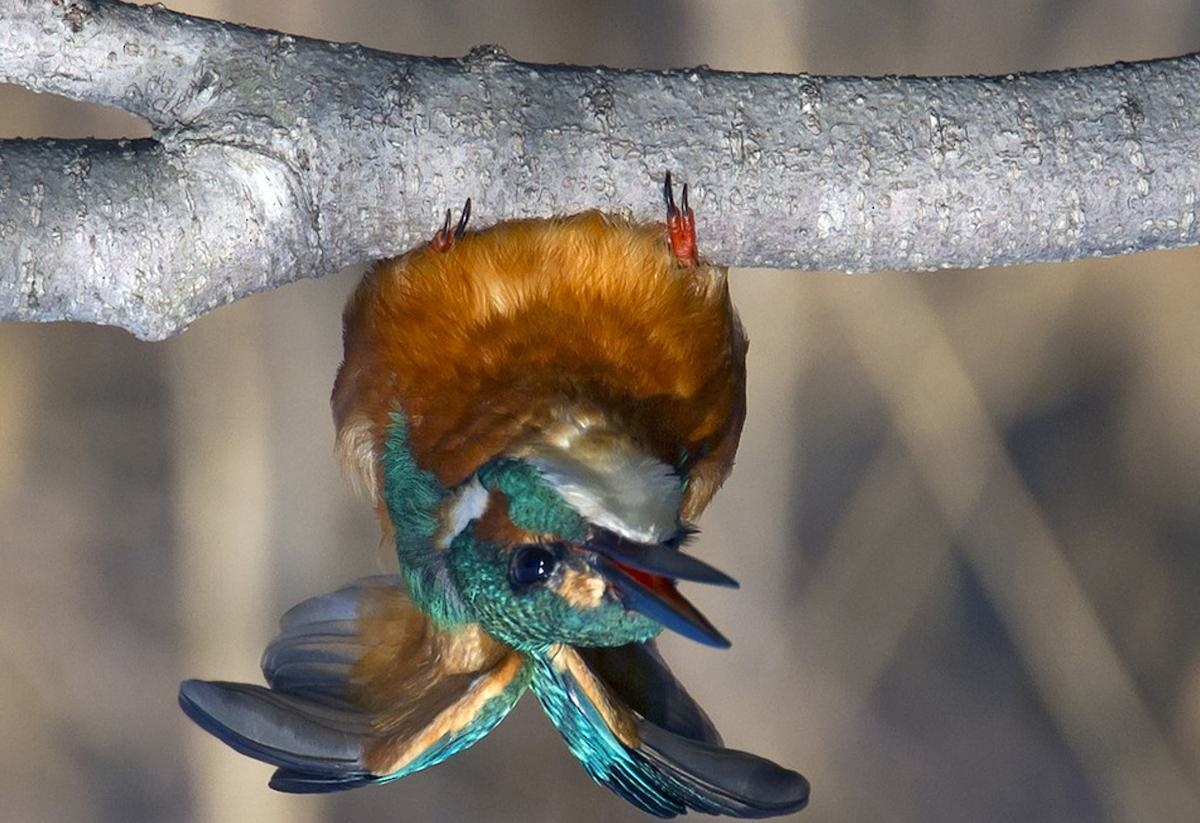kingfisher: (199, 180, 808, 815)
